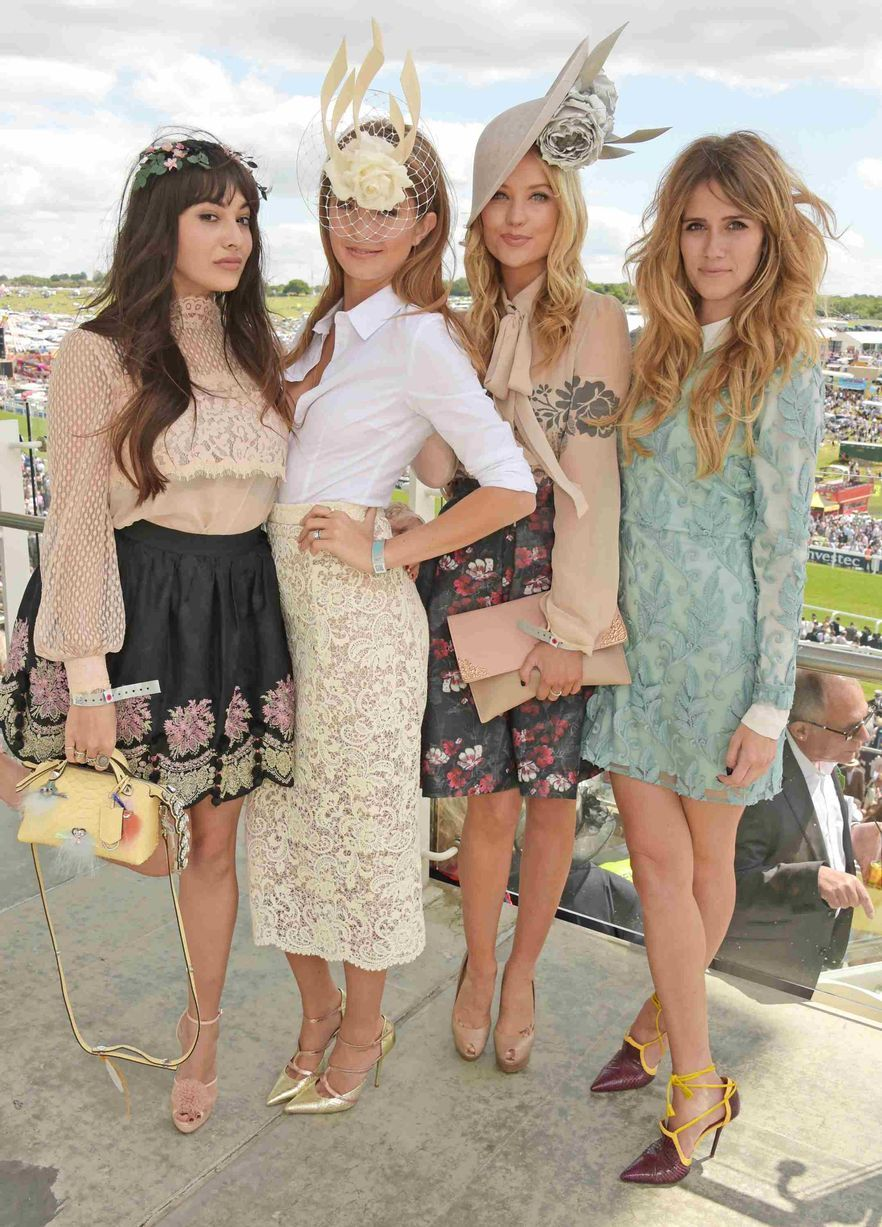Person: (6, 131, 297, 1138), (622, 131, 825, 1186), (278, 17, 449, 1115), (458, 26, 635, 1069)
